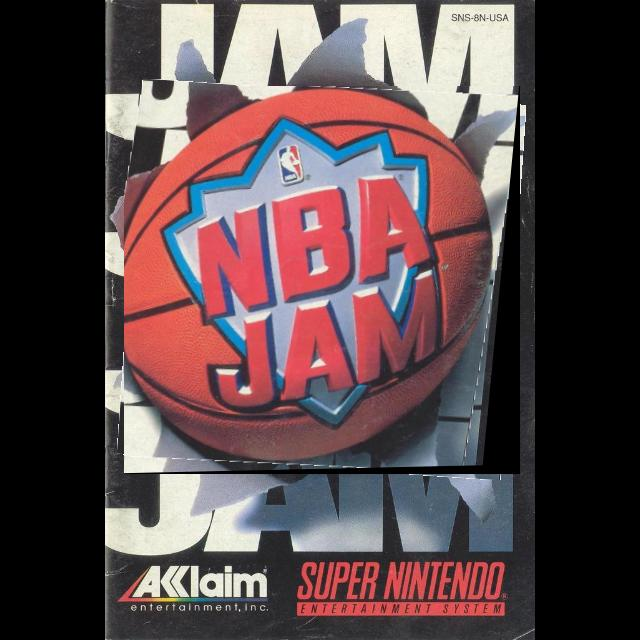Football: (124, 86, 520, 474)
